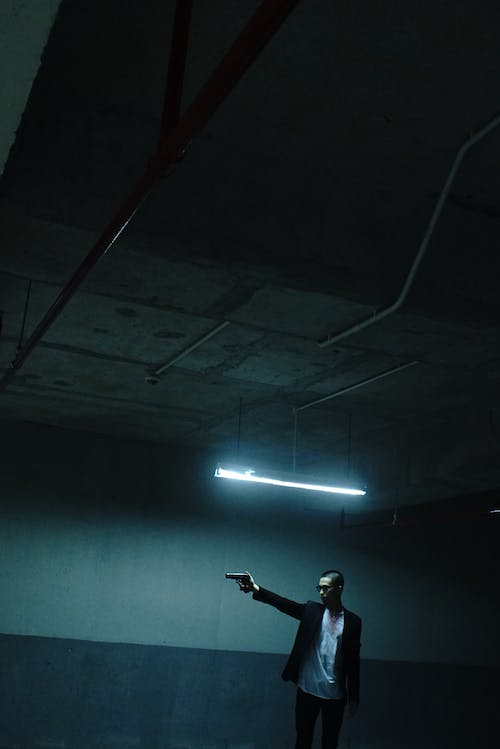gun: (222, 568, 252, 595)
